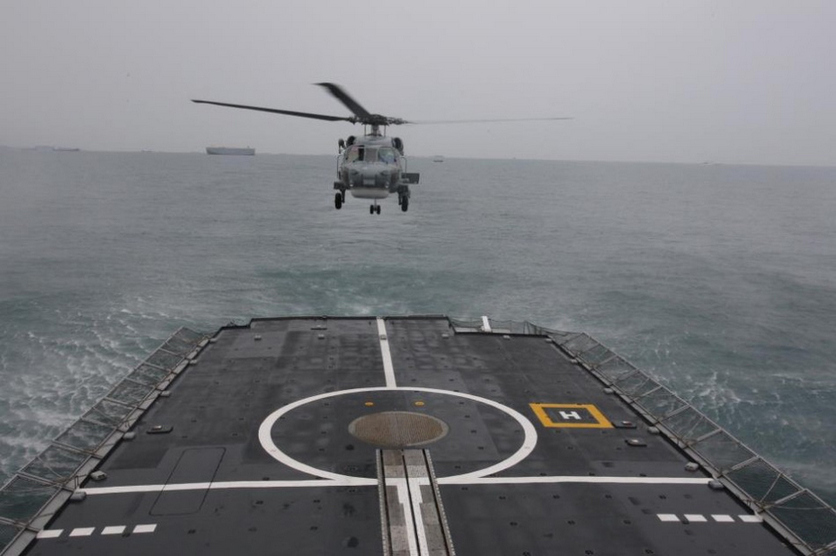airplane: (178, 82, 566, 246)
